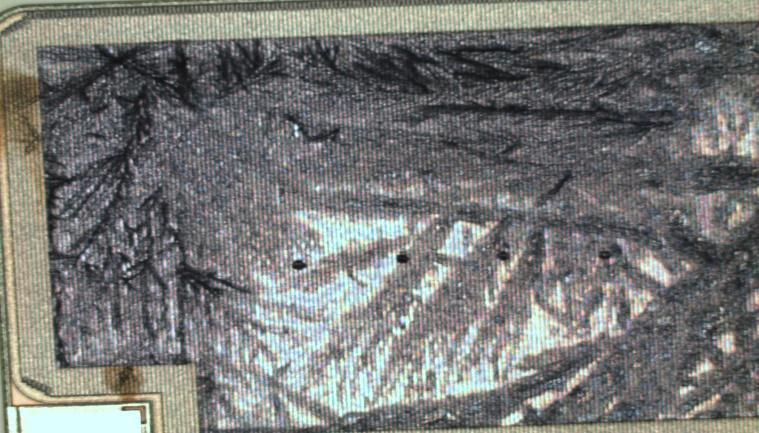SEZ BURNT: (1, 21, 759, 433)
